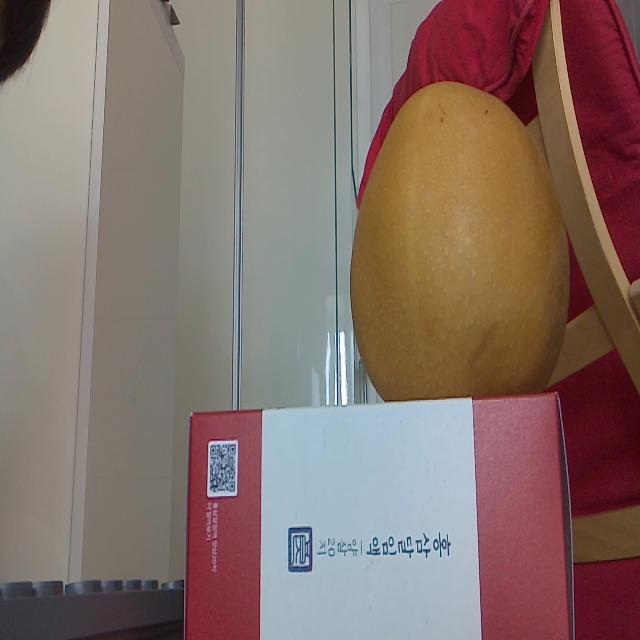pear: (351, 83, 570, 393)
